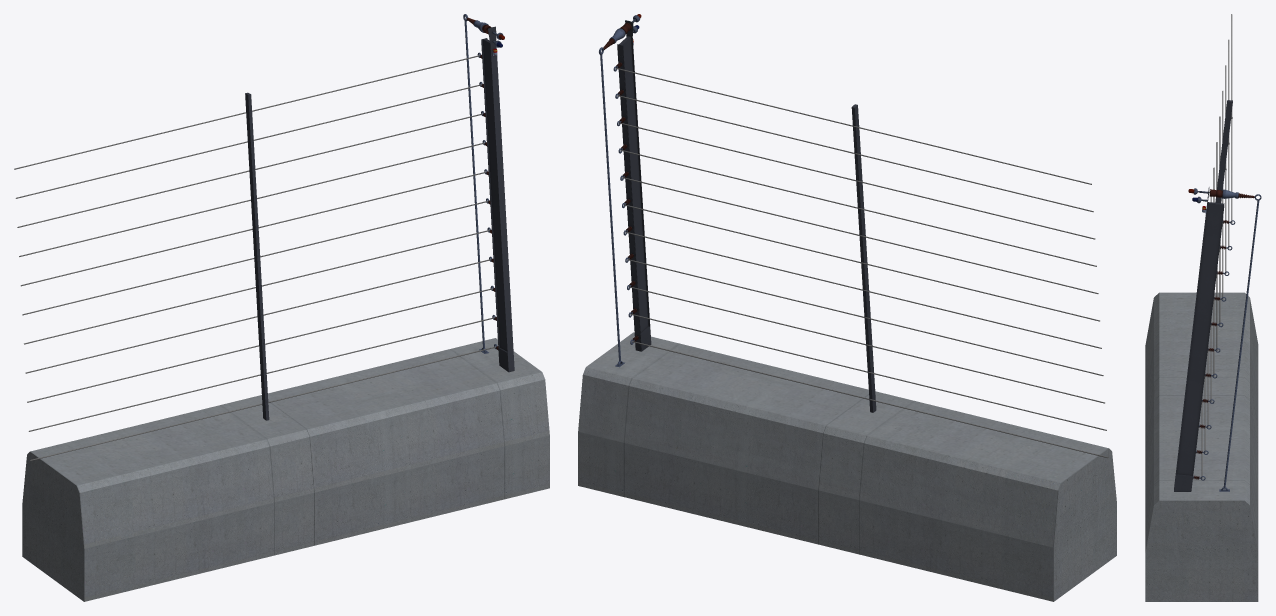
Rendered from small-fence.glb.
The picture shows the model from 3 angles, left to right: view 1: azimuth 30°, elevation 25°; view 2: azimuth 150°, elevation 25°; view 3: azimuth 270°, elevation 25°; orthographic projection. The views are drawn at different scales.
Parts seen in each view (by area): view 1: electric_fence_direct.002; view 2: electric_fence_direct.002; view 3: electric_fence_direct.002.
Boxes of the visible parts, x1,y1,x2,y2 form: electric_fence_direct.002: (14, 14, 549, 601); electric_fence_direct.002: (578, 14, 1116, 601); electric_fence_direct.002: (1145, 14, 1261, 601).
Size of the model in its own units: 13.1 by 11.31 by 2.95.
Materials: 1 (1 with a texture image).
